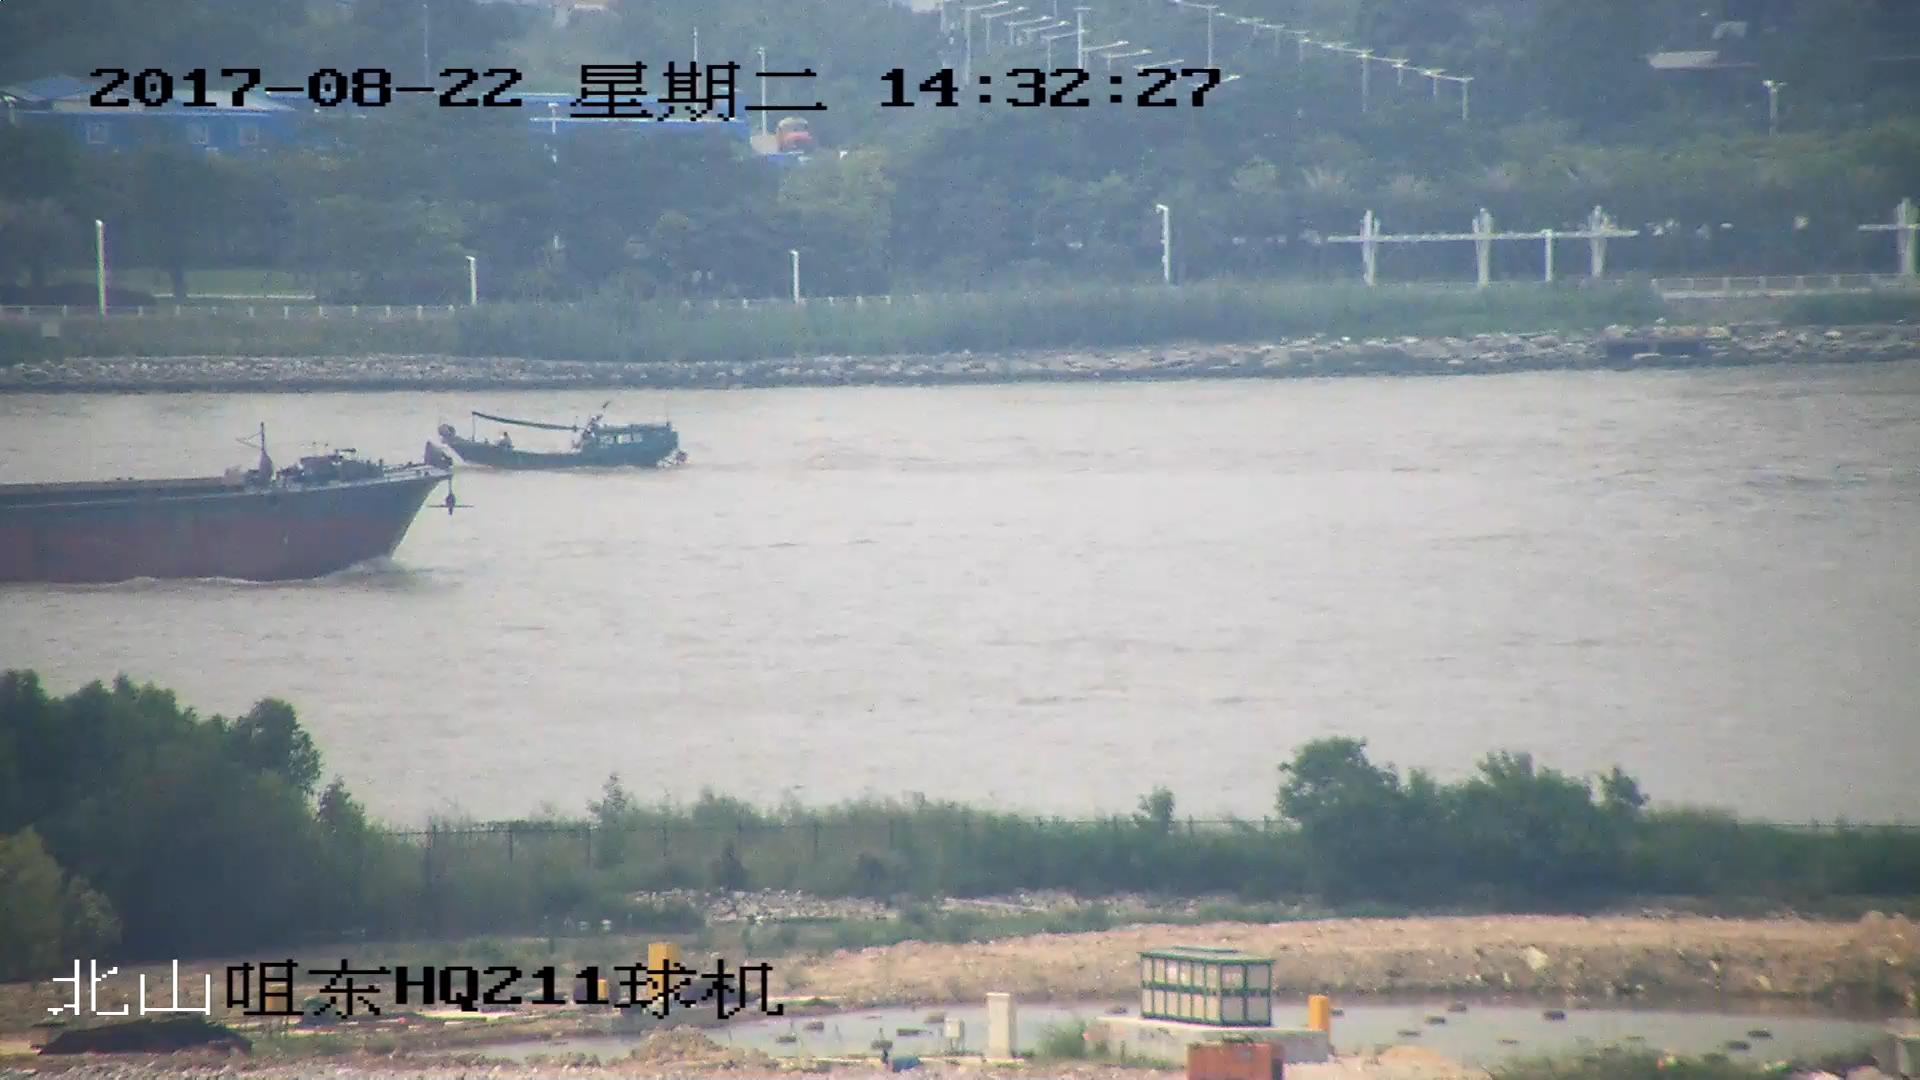bulk cargo carrier: (1, 429, 450, 584)
fishing boat: (440, 408, 685, 471)
